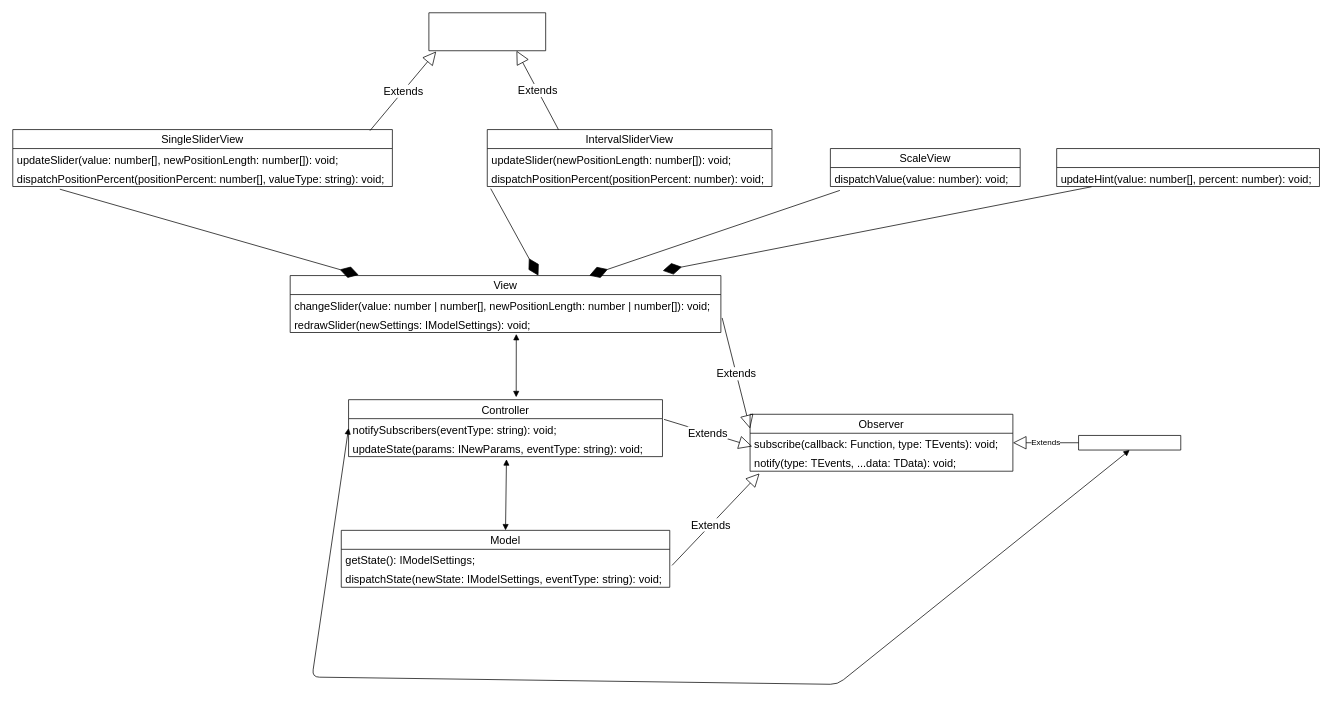
This 1332x704 diagram has some shape labels left out. The box of each missing label's shape, as (x1, y1, x2, y2) in pixels:
Application: (1078, 435, 1181, 450)
ComponentSliderView: (428, 12, 546, 51)
HintView: (1056, 148, 1319, 187)
